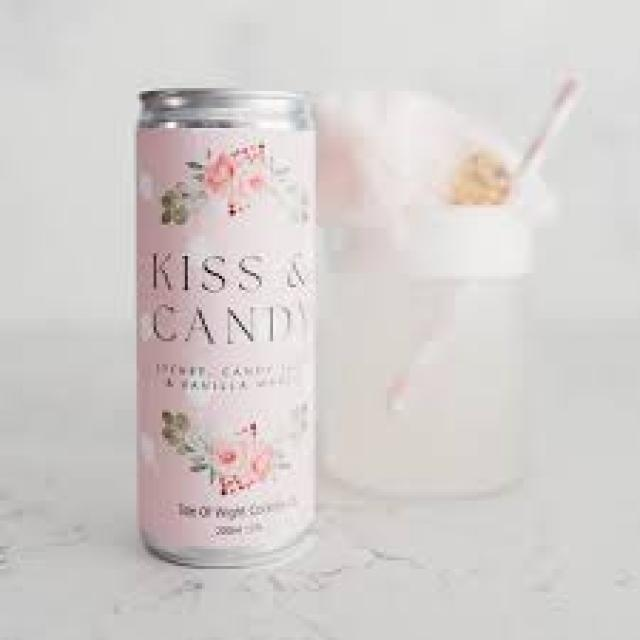Cans: (122, 79, 333, 572)
